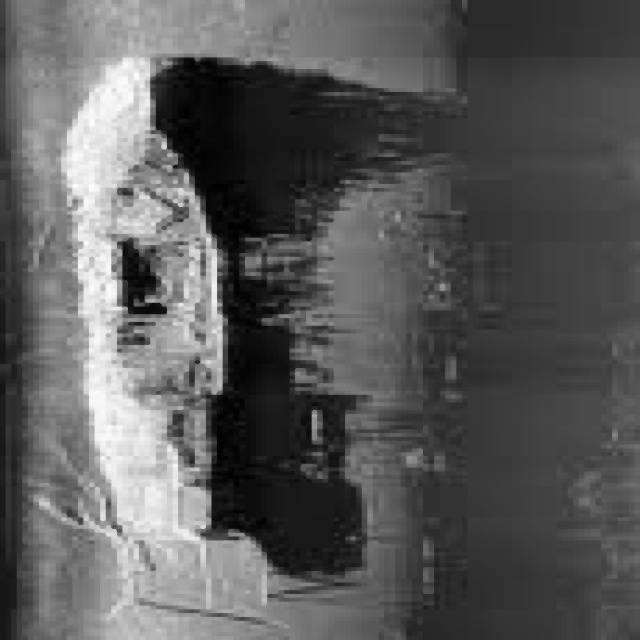Ship: (42, 40, 258, 567)
